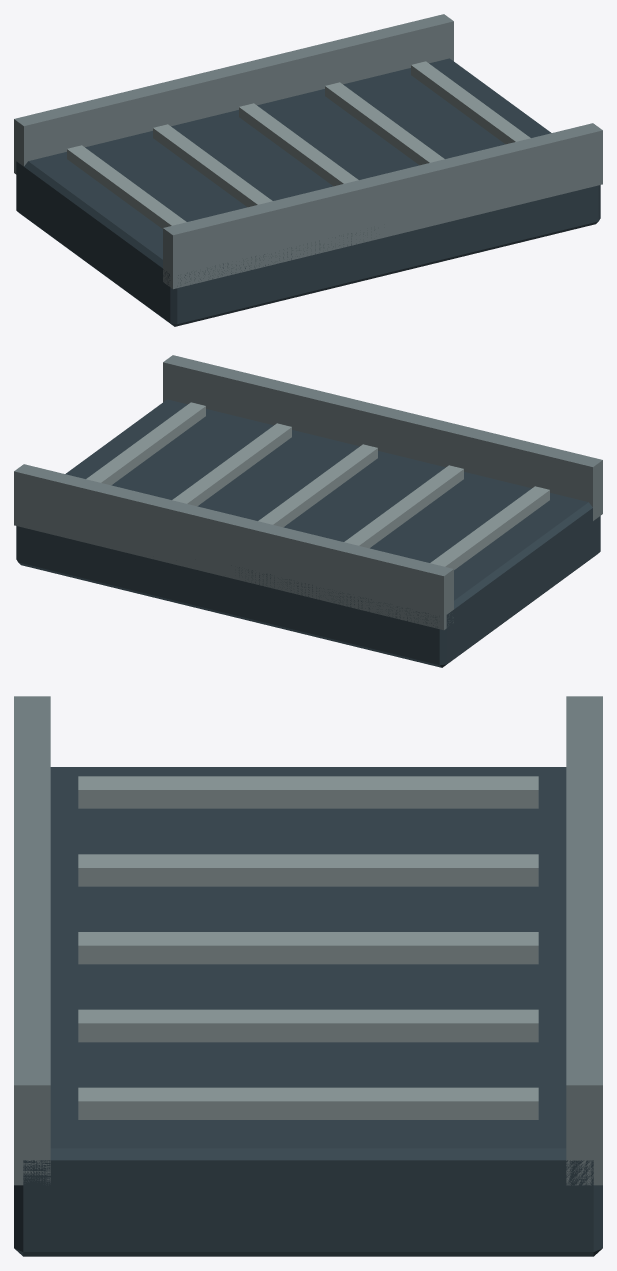
Rendered from phw_belt_straight.glb.
The picture shows the model from 3 angles, top to bottom: view 1: azimuth 30°, elevation 25°; view 2: azimuth 150°, elevation 25°; view 3: azimuth 270°, elevation 25°; orthographic projection. The views are drawn at different scales.
Visible parts, largest first — view 1: body; view 2: body; view 3: body.
Boxes of the visible parts, <box> form: body: <box>14,14,602,326</box>; body: <box>14,355,602,667</box>; body: <box>14,696,602,1256</box>.
Size of the model in its own units: 1 by 0.21 by 0.64.
